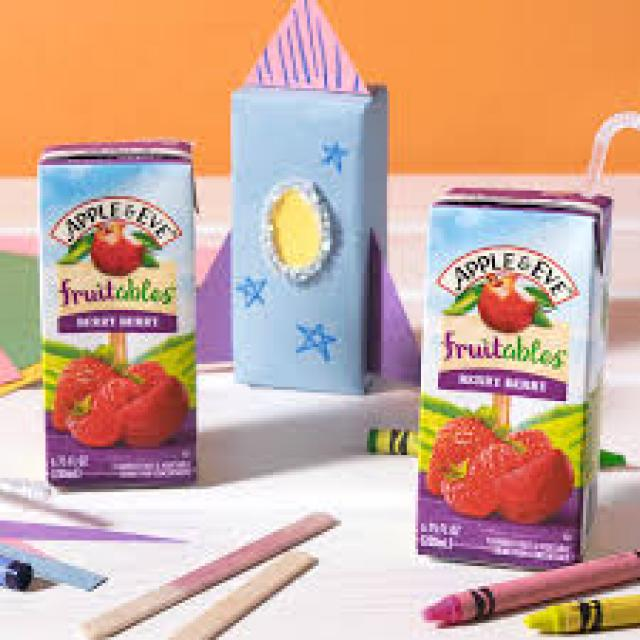non_white_jug: (408, 169, 616, 579), (22, 115, 208, 508), (219, 3, 387, 404)
